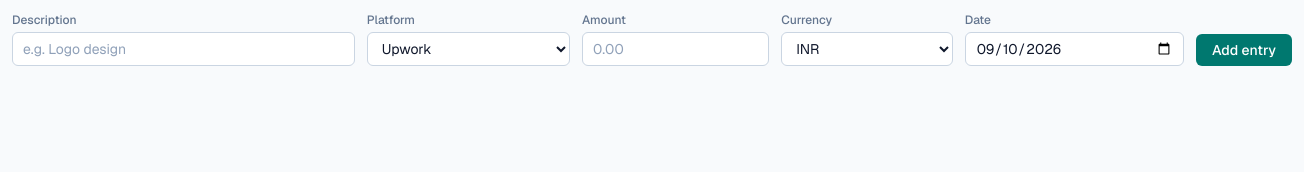
Test case: EntryForm › shows a validation error and does not submit when description is empty
In the number field labelled "Amount": (676, 49) [582,32,769,66], type "150"
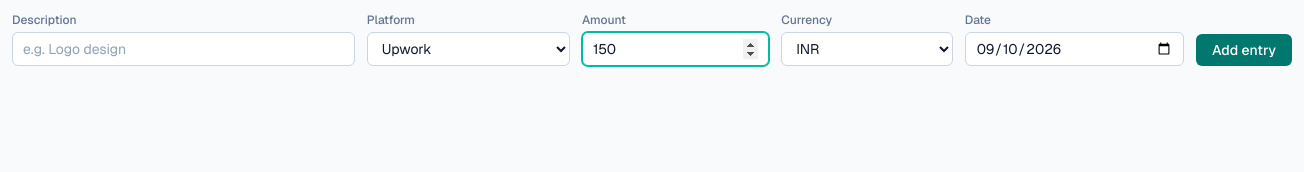
Click the button "Add entry": (1244, 50) [1196,34,1292,66]
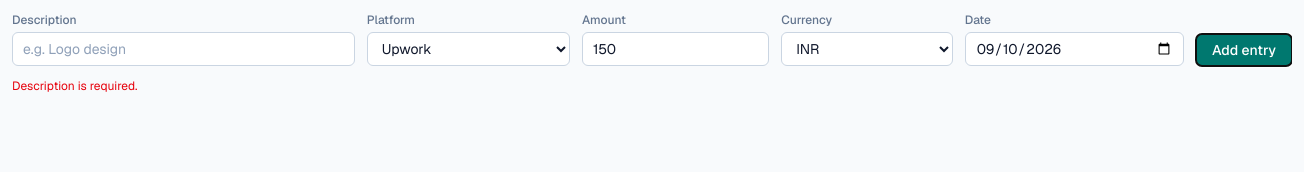
Result: the message shows "Description is required" at [12,78,138,94]
